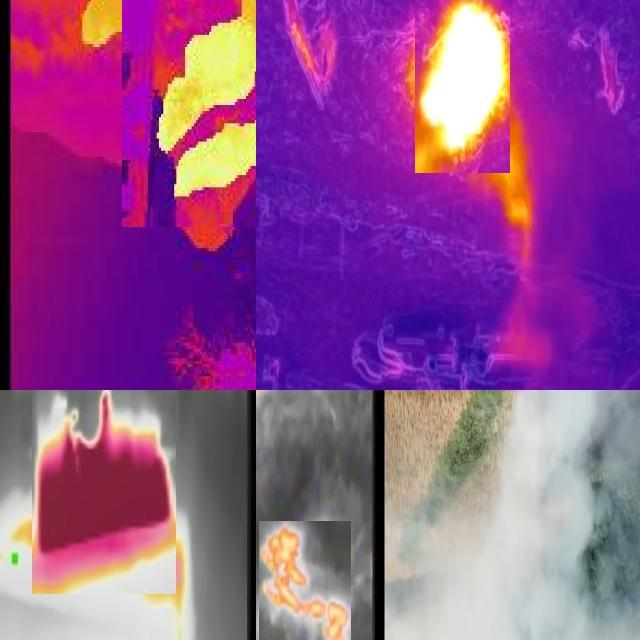fire: (33, 391, 177, 595), (155, 1, 257, 203), (416, 1, 511, 173), (260, 522, 352, 640), (82, 1, 121, 57)
